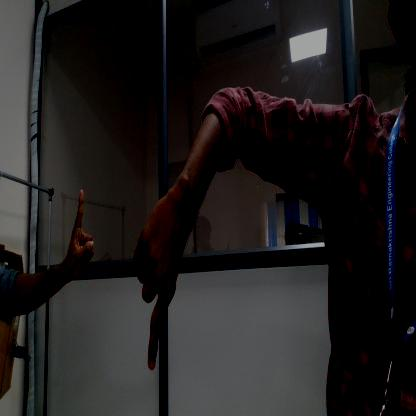Down: (130, 184, 194, 382)
Up: (62, 179, 100, 286)
